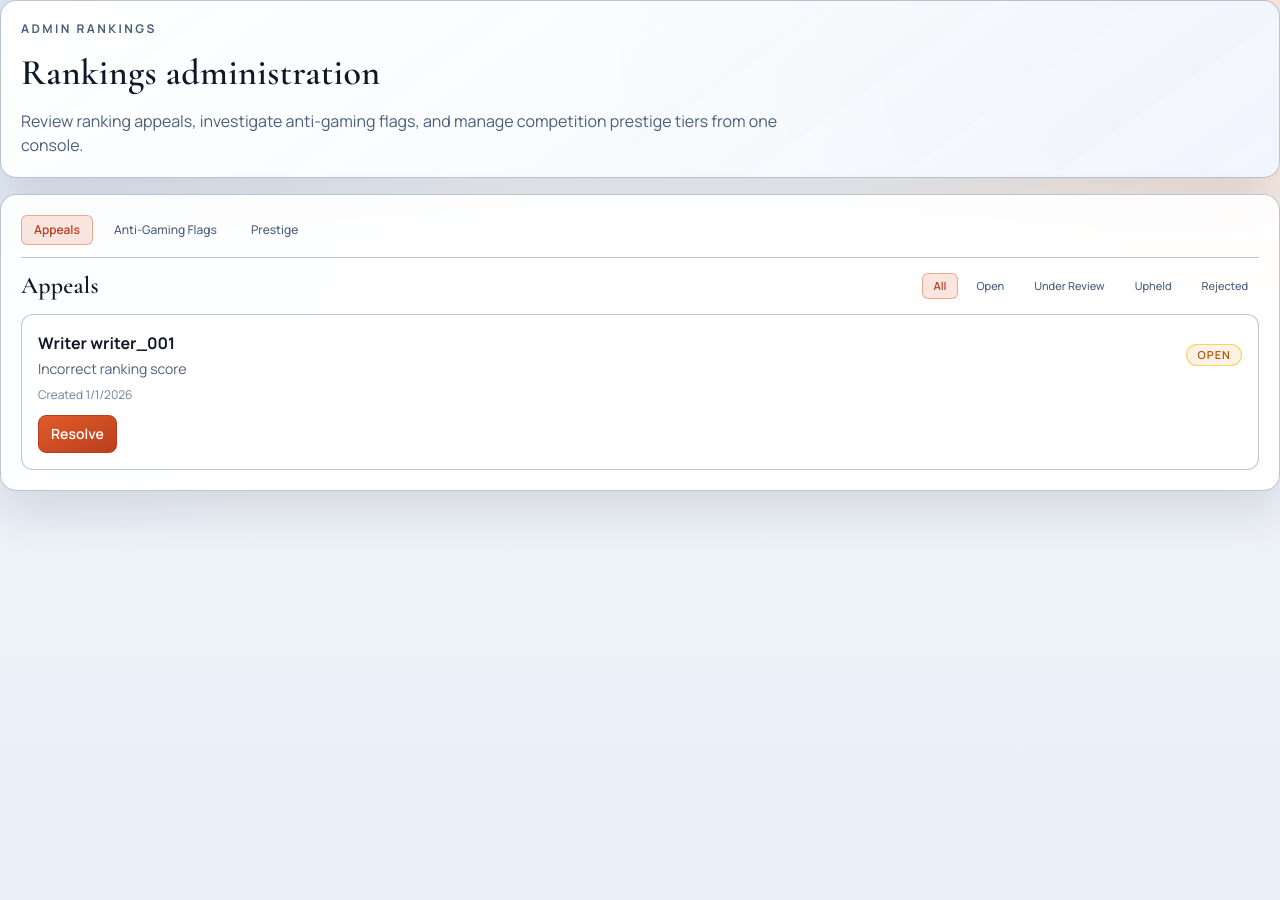
AdminRankingsPage › shows generic error toast (non-ApiError) when appeal resolve throws
This screenshot has width=1280, height=900.
Expected: the text "Incorrect ranking score" is shown, x1=38 y1=359 x2=186 y2=379
Click the button "Resolve". click: [77, 434]
box: x1=38 y1=415 x2=117 y2=453
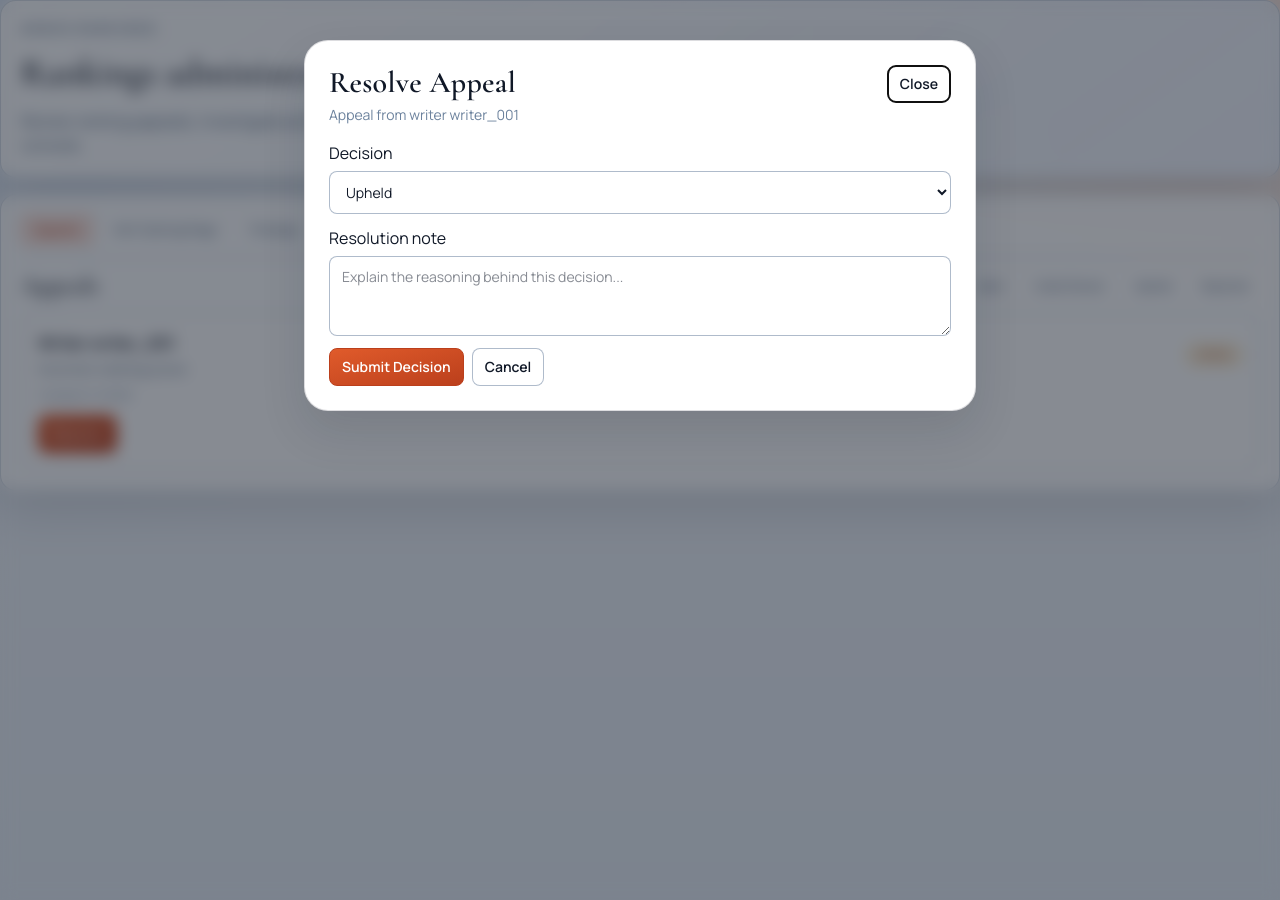
Click the button "Submit Decision". click: [396, 367]
box: x1=329 y1=348 x2=464 y2=386
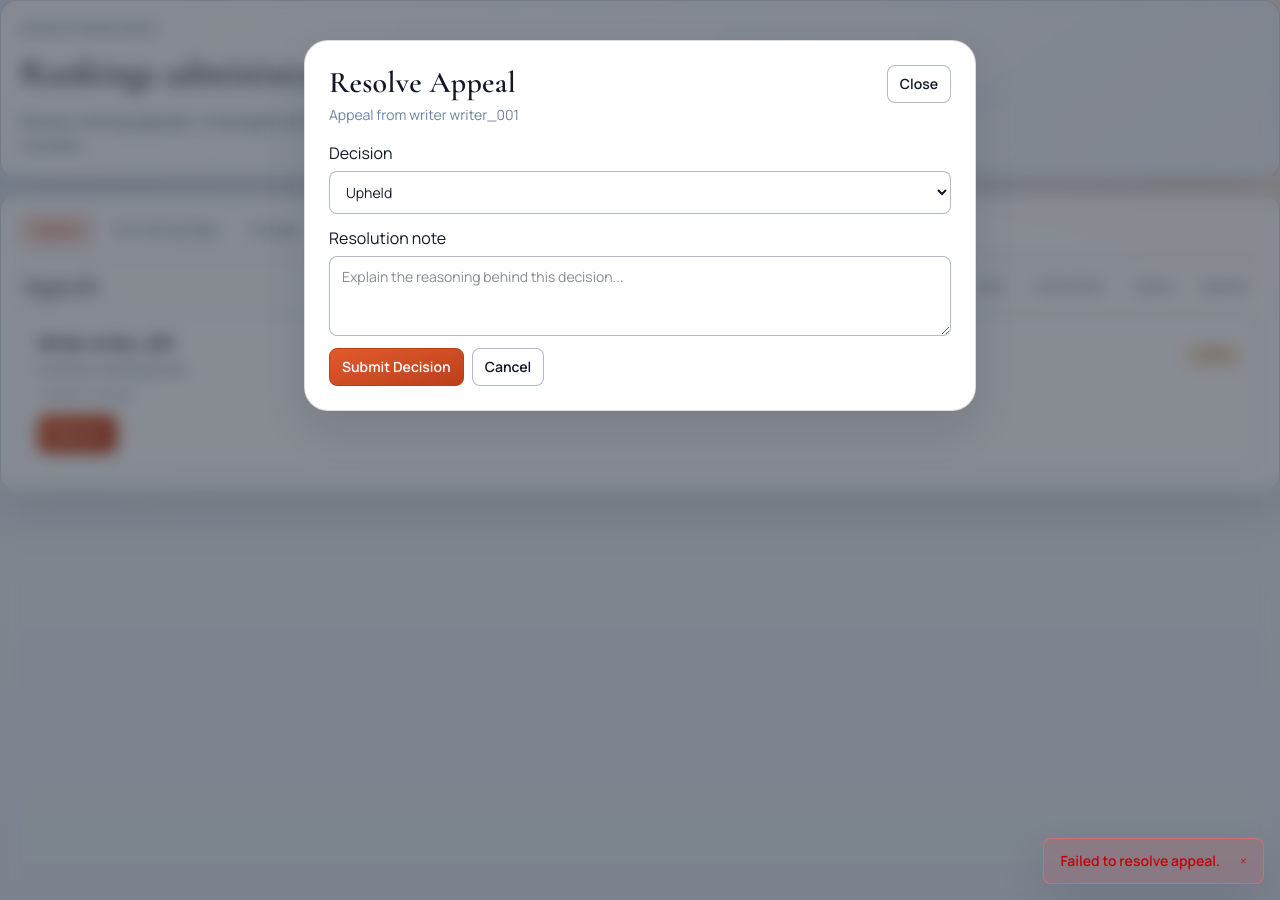
Expected: the text "Failed to resolve appeal." is shown, x1=1060 y1=851 x2=1220 y2=871
